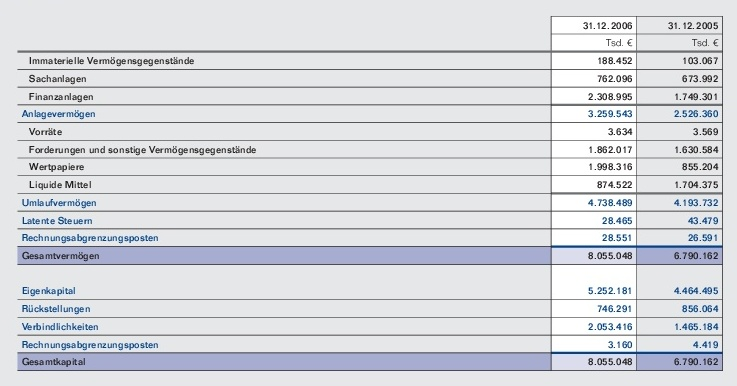table: (0, 0, 737, 386)
